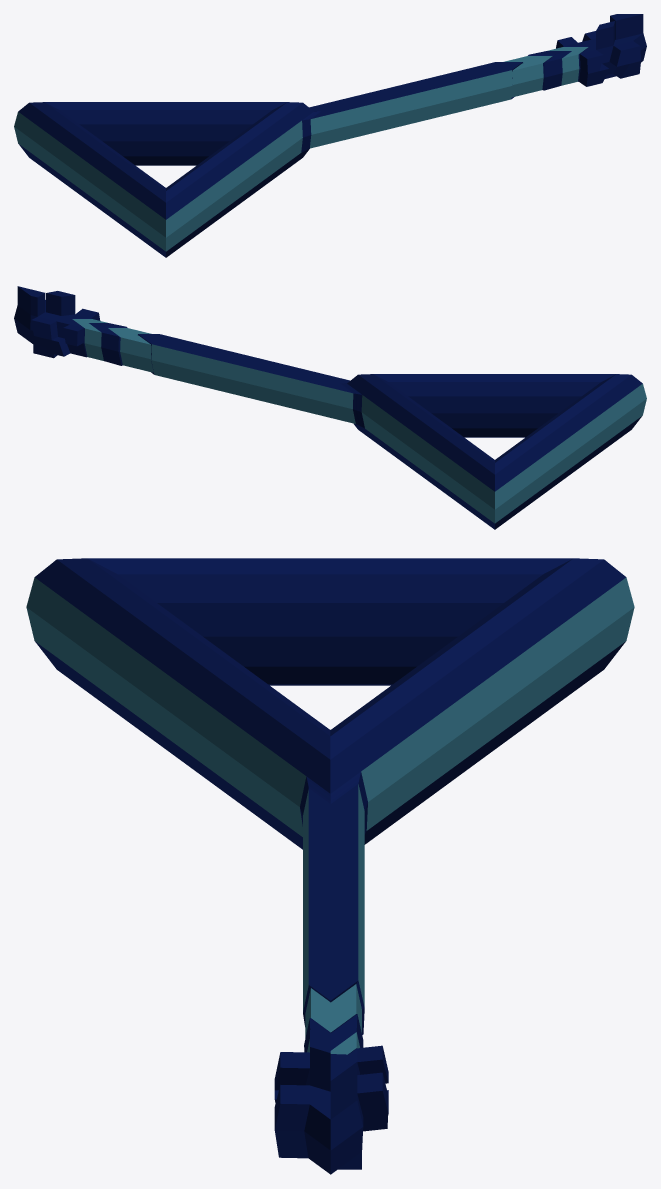
File: MazeKeyvvv2.glb
3 renders of one model, top to bottom at view 1: azimuth 30°, elevation 25°; view 2: azimuth 150°, elevation 25°; view 3: azimuth 270°, elevation 25°, orthographic. The views are drawn at different scales.
Parts seen in each view (by area): view 1: Torus; view 2: Torus; view 3: Torus.
Boxes of the visible parts, bbox=[...] form: Torus: bbox=[14, 14, 646, 257]; Torus: bbox=[14, 286, 646, 529]; Torus: bbox=[26, 558, 634, 1174].
Size of the model in its own units: 4.58 by 0.5097 by 2.17.
